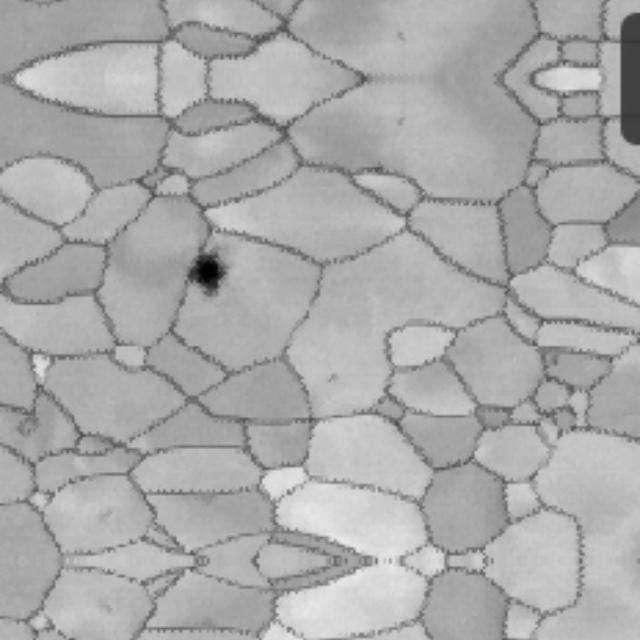good_void: (176, 238, 233, 301), (9, 409, 47, 440), (321, 368, 346, 390), (389, 111, 411, 132), (389, 26, 411, 47), (544, 351, 562, 371)
